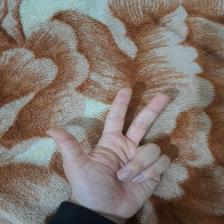three: (48, 87, 179, 214)
